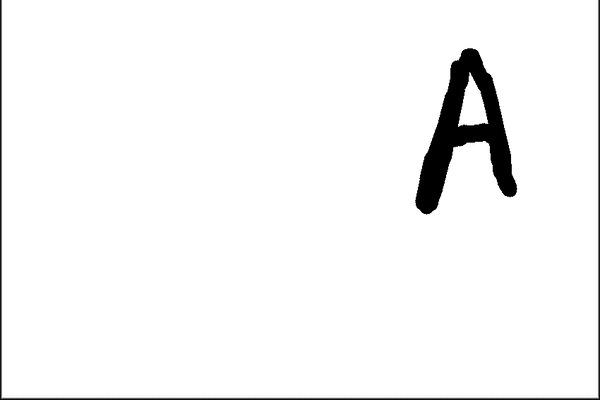A: (404, 42, 528, 220)
